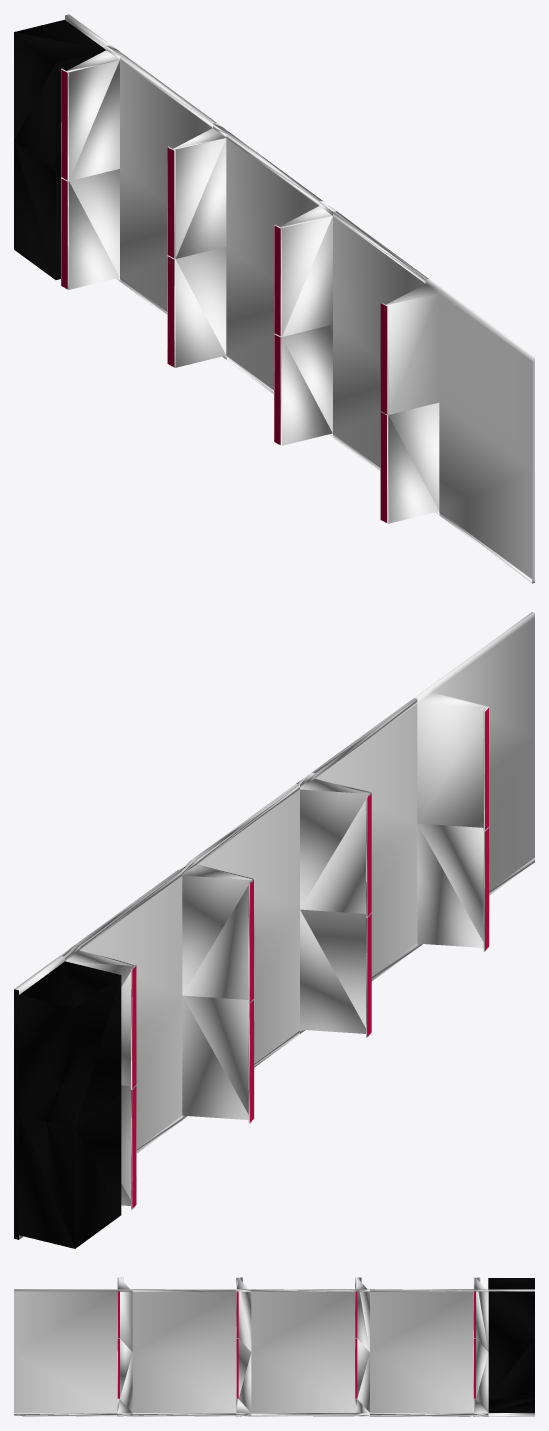
The model's file is half_shelf.fbx.
The picture shows the model from 3 angles, top to bottom: view 1: azimuth 30°, elevation 25°; view 2: azimuth 150°, elevation 25°; view 3: azimuth 270°, elevation 25°; orthographic projection. The views are drawn at different scales.
Parts seen in each view (by area): view 1: Shelves, shelf__1_; view 2: Shelves, shelf__1_; view 3: Shelves, shelf__1_.
Part boxes in pixels (x1,y1,x2,y2): Shelves: [61, 45, 534, 583]; shelf__1_: [14, 14, 110, 279]; Shelves: [60, 612, 534, 1209]; shelf__1_: [14, 955, 121, 1248]; Shelves: [14, 1277, 488, 1416]; shelf__1_: [488, 1278, 534, 1416].
Size of the model in its own units: 104 by 389 by 1460.
